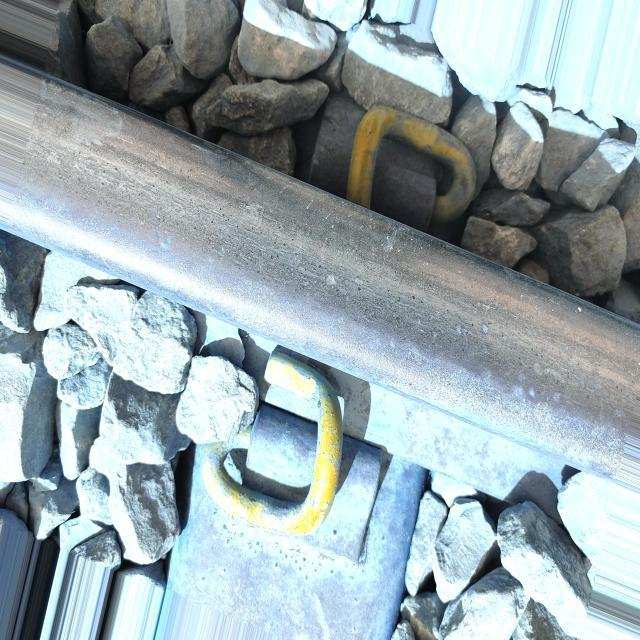Good Fasteners: (201, 351, 386, 561), (304, 91, 476, 231)
